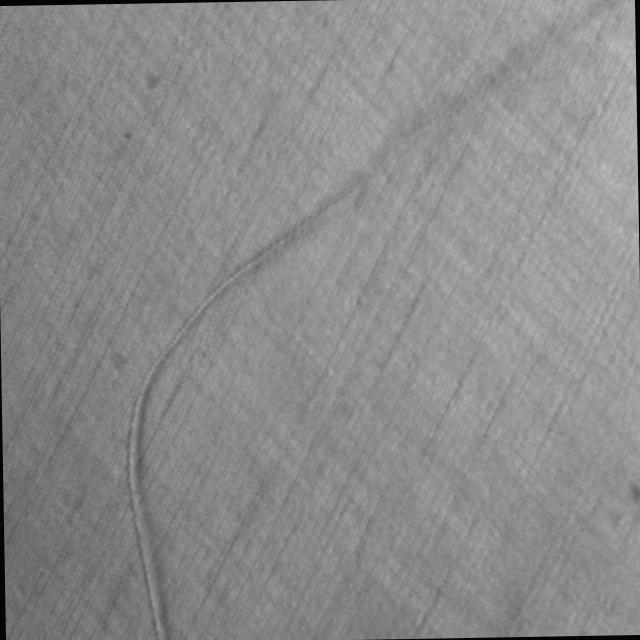objects: (119, 0, 640, 638)
